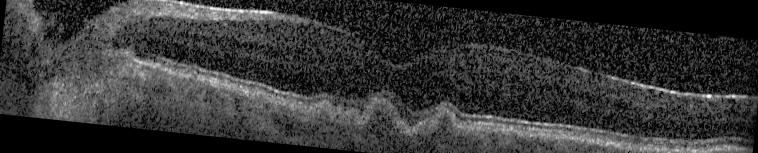retinal_drusen: (427, 108, 466, 139), (364, 102, 399, 135), (317, 103, 332, 119), (252, 93, 271, 103), (335, 106, 346, 122), (282, 98, 292, 110), (347, 112, 357, 122), (187, 71, 197, 80)
